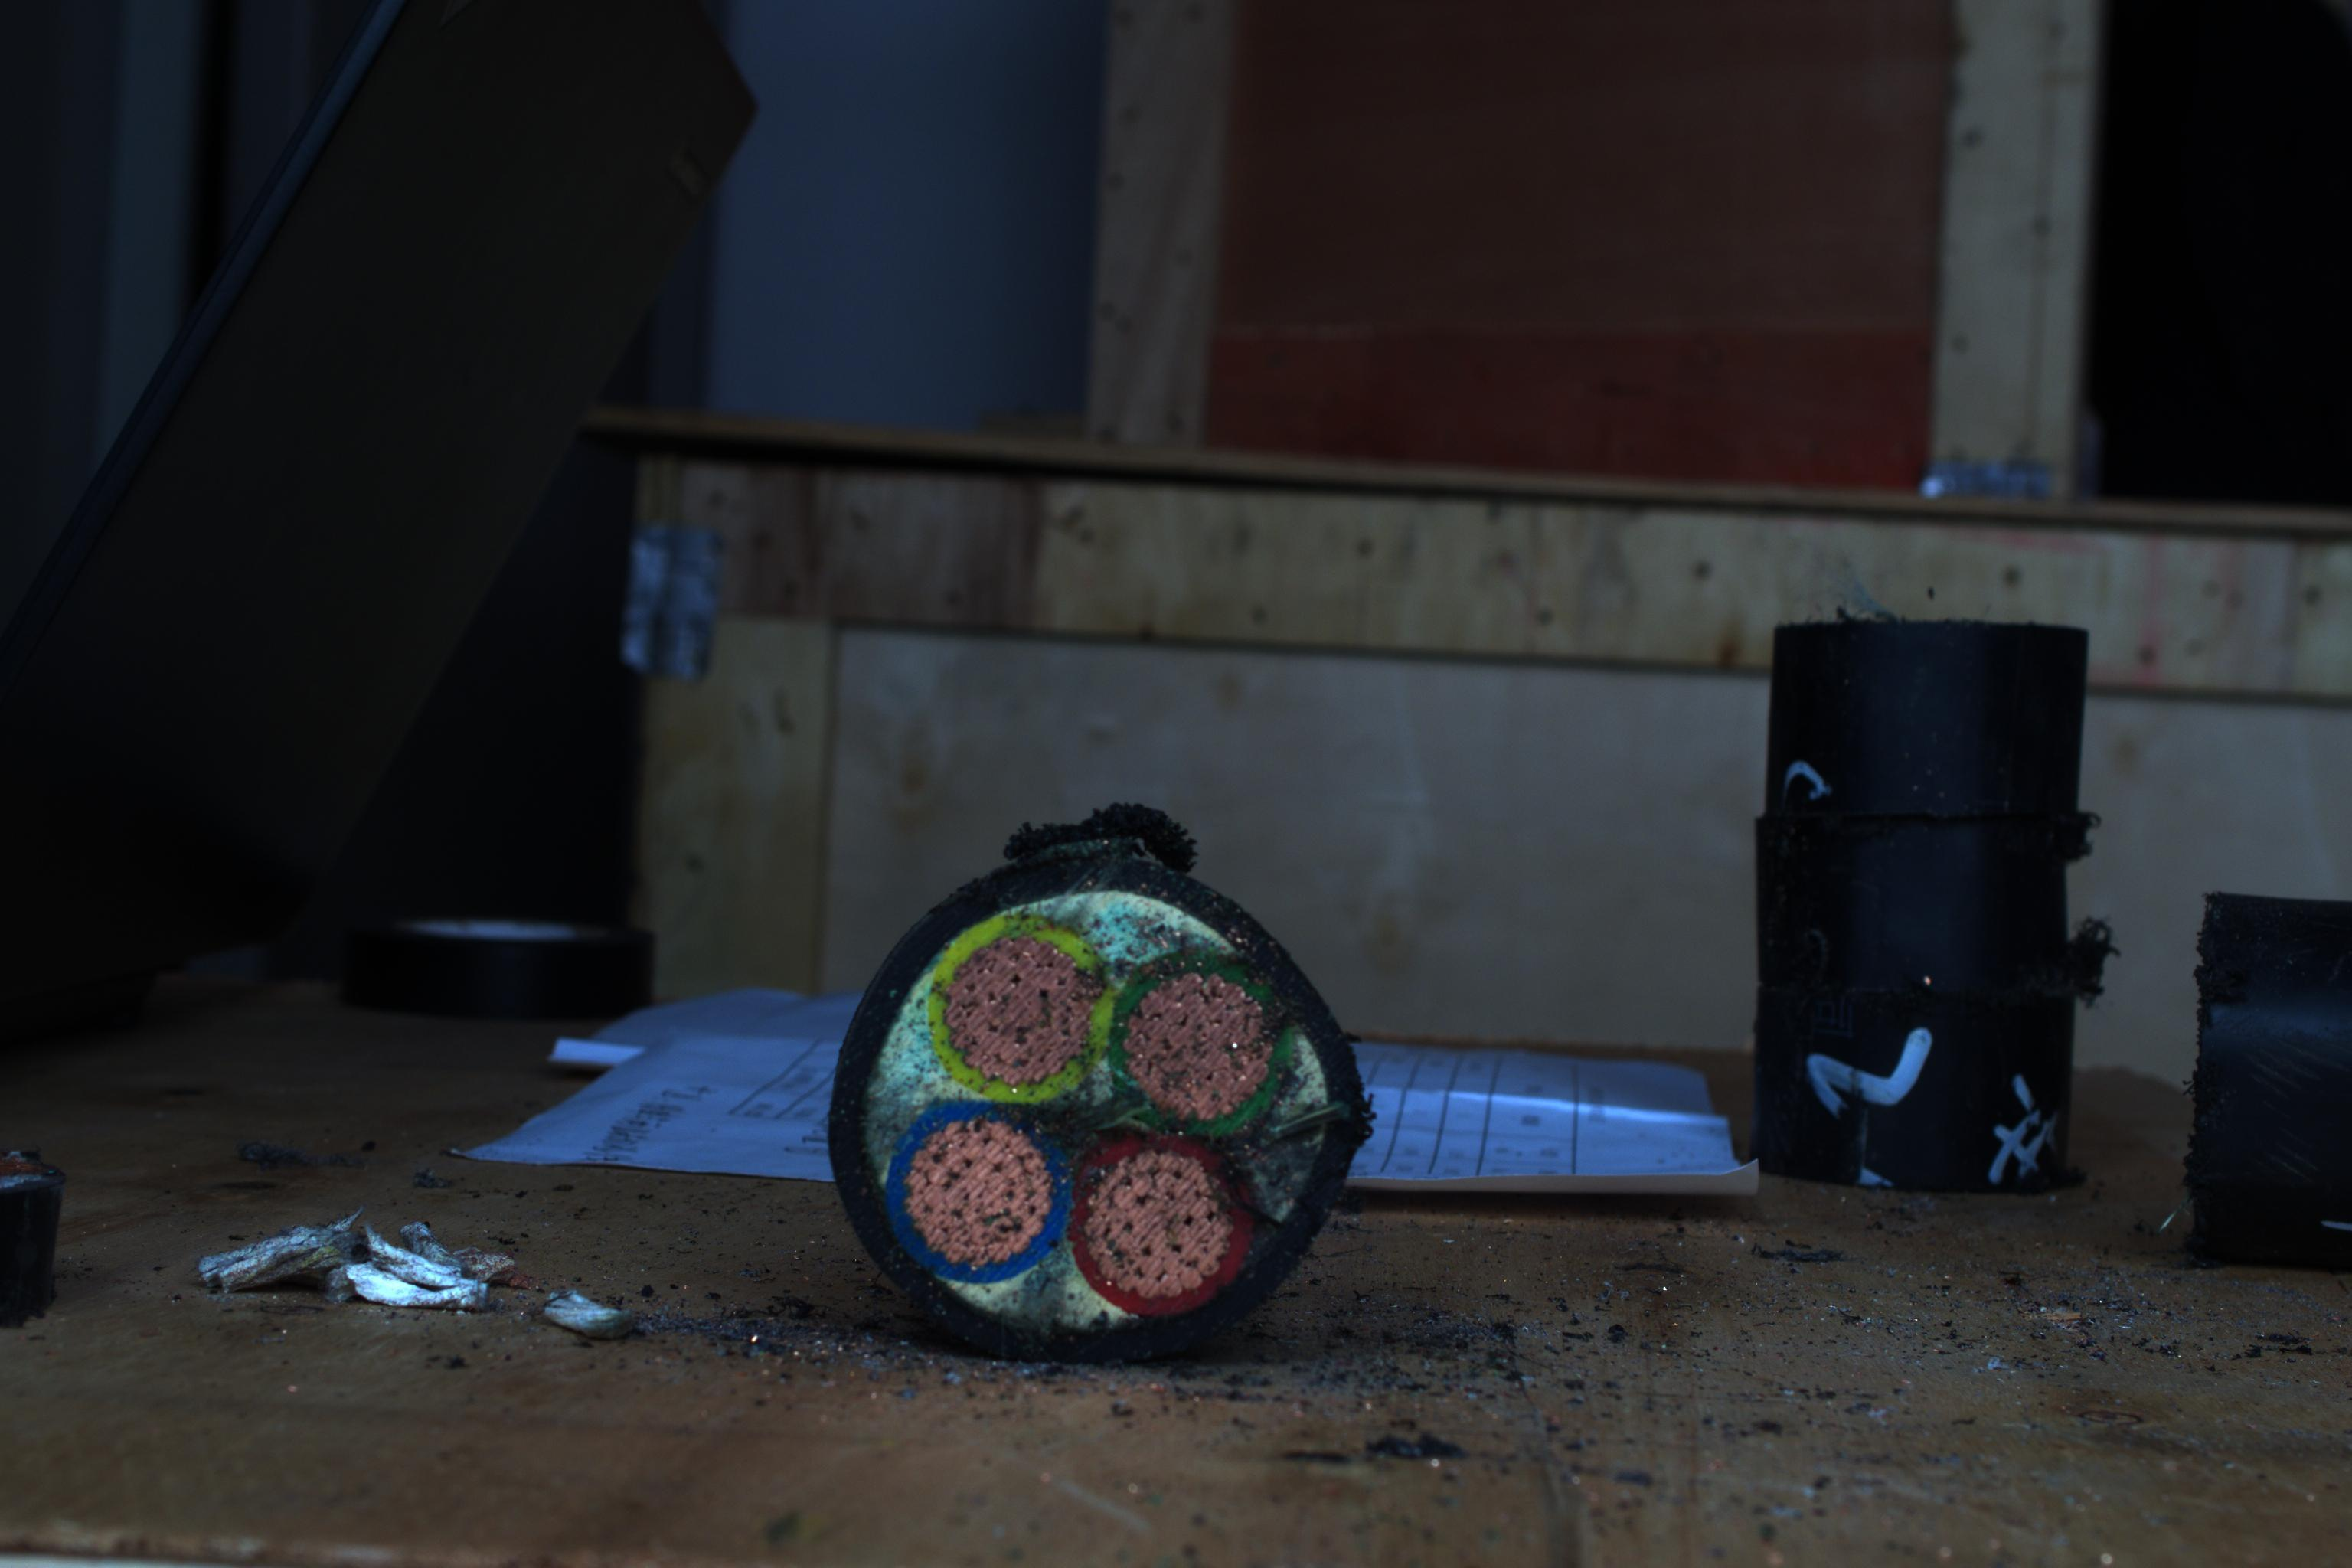YJV_0.6_1kV_4x185: (856, 870, 1340, 1312)
